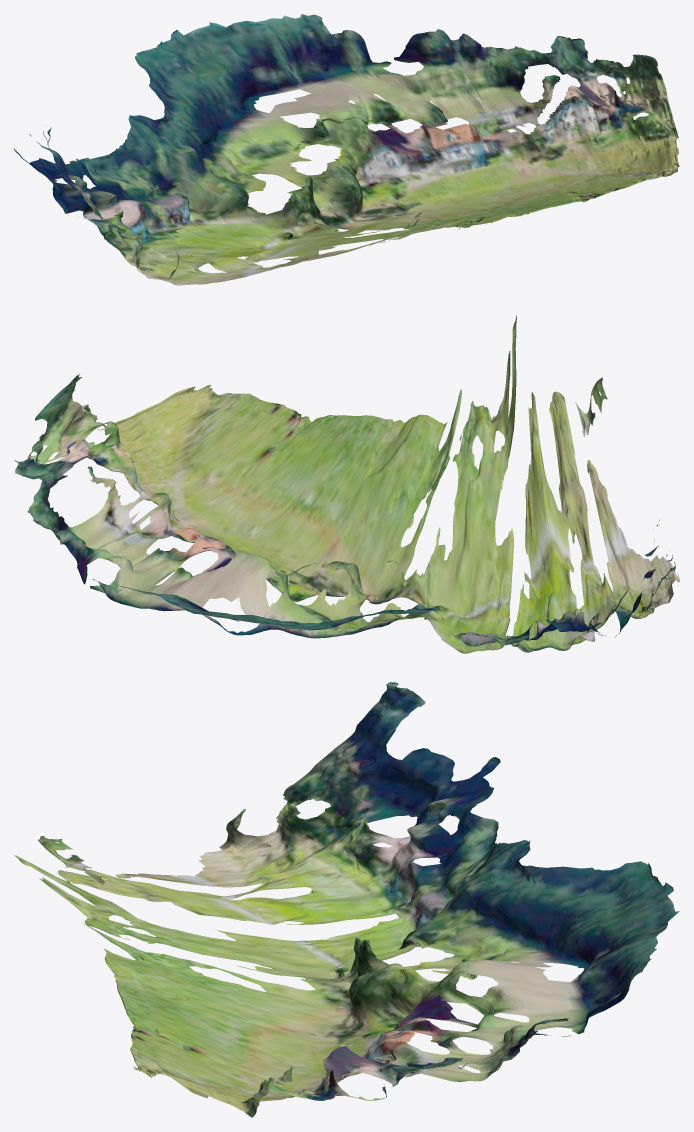
Rendered from render.glb.
3 renders of one model, top to bottom at view 1: azimuth 30°, elevation 25°; view 2: azimuth 150°, elevation 25°; view 3: azimuth 270°, elevation 25°, orthographic. The views are drawn at different scales.
Visible parts, largest first — view 1: geometry_0; view 2: geometry_0; view 3: geometry_0.
Boxes of the visible parts, x1,y1,x2,y2 form: geometry_0: (14,14,679,285); geometry_0: (14,315,679,653); geometry_0: (14,682,679,1117).
Size of the model in its own units: 33.82 by 8.63 by 29.72.
